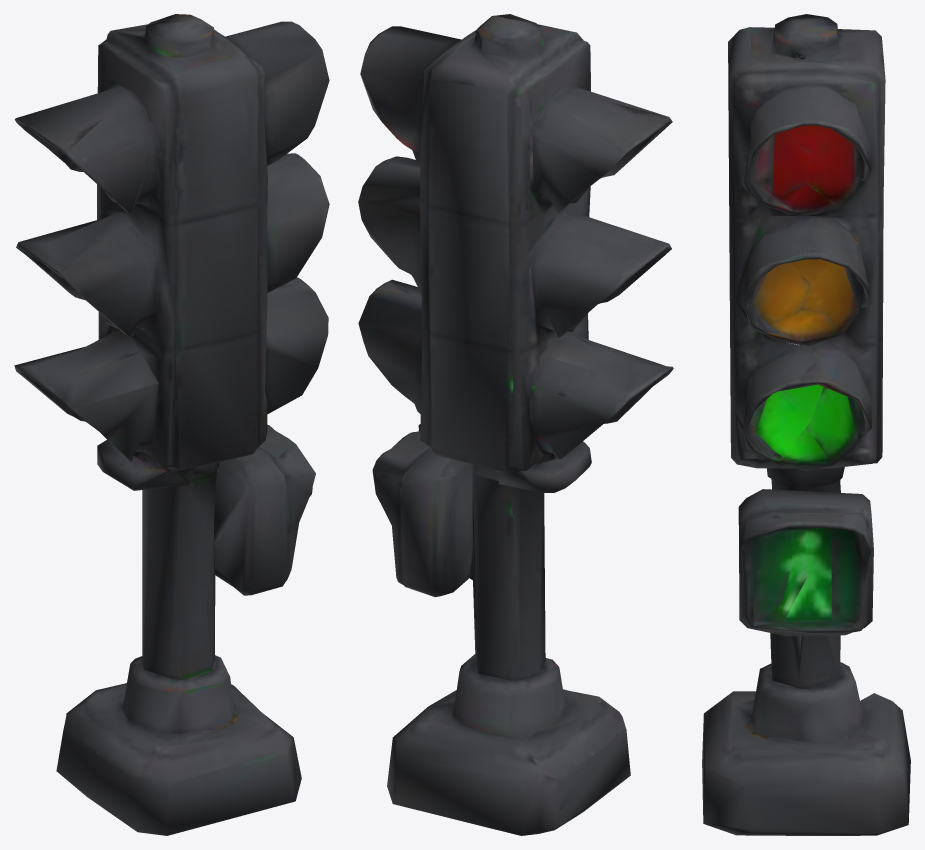
File: trafficlight.glb
The picture shows the model from 3 angles, left to right: view 1: azimuth 30°, elevation 25°; view 2: azimuth 150°, elevation 25°; view 3: azimuth 270°, elevation 25°; orthographic projection.
Parts seen in each view (by area): view 1: tripo_node_fe59cc61; view 2: tripo_node_fe59cc61; view 3: tripo_node_fe59cc61.
Boxes of the visible parts, x1,y1,x2,y2 form: tripo_node_fe59cc61: (14, 14, 329, 835); tripo_node_fe59cc61: (358, 14, 673, 835); tripo_node_fe59cc61: (702, 14, 910, 835).
Bounding box in the file's own units: 36.83 × 99.96 × 24.44.
1 material, 1 textured.
